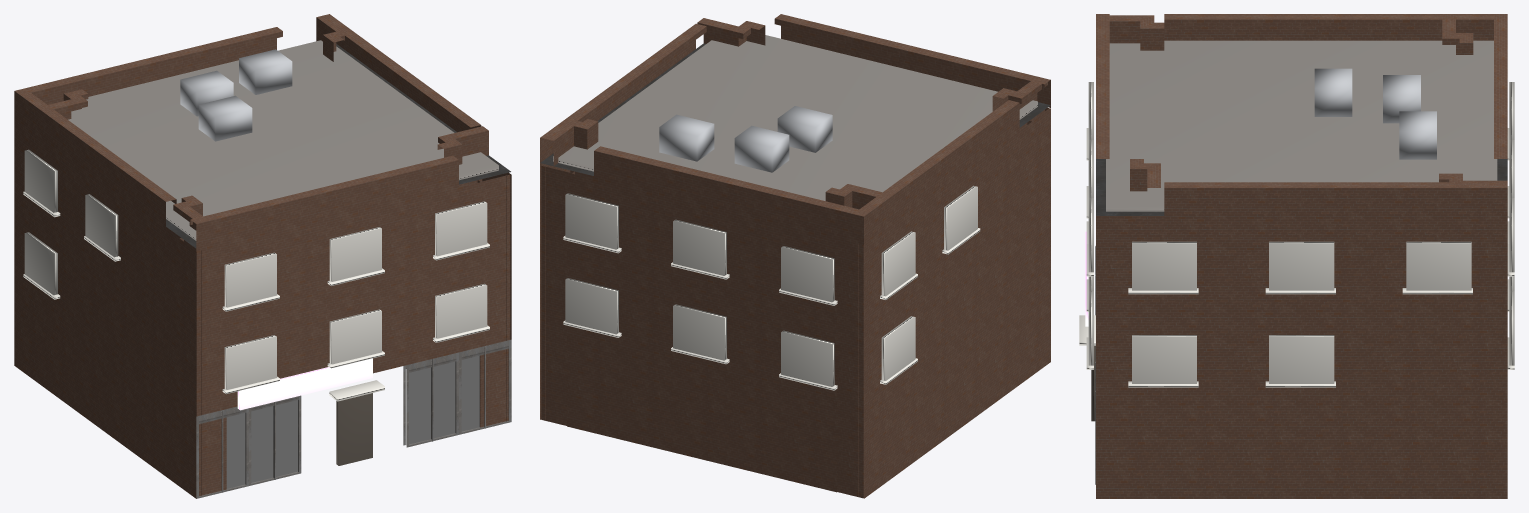
File: b_brick4.gltf
3 renders of one model, left to right at view 1: azimuth 30°, elevation 25°; view 2: azimuth 150°, elevation 25°; view 3: azimuth 270°, elevation 25°, orthographic. The views are drawn at different scales.
Parts seen in each view (by area): view 1: b_brick4; view 2: b_brick4; view 3: b_brick4.
Boxes of the visible parts, x1,y1,x2,y2 form: b_brick4: (14, 14, 511, 498); b_brick4: (540, 14, 1050, 498); b_brick4: (1079, 14, 1514, 498).
Bounding box in the file's own units: 12.48 × 10.3 × 12.7.
Materials: 14 (5 with a texture image).
